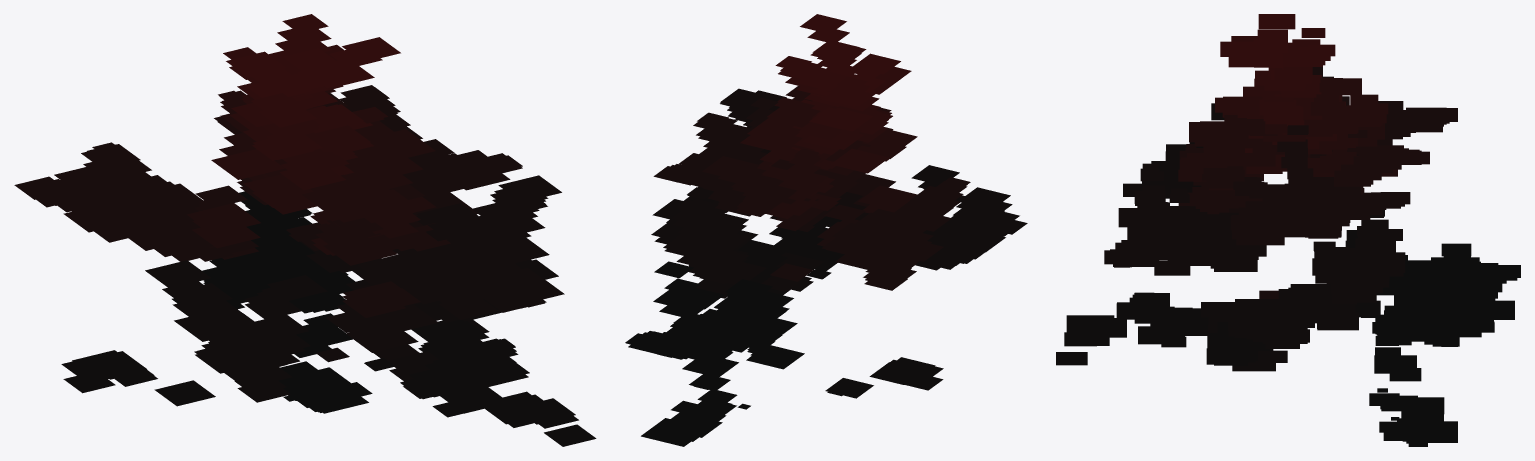
The model's file is baked_canopy02.fbx.
3 renders of one model, left to right at view 1: azimuth 30°, elevation 25°; view 2: azimuth 150°, elevation 25°; view 3: azimuth 270°, elevation 25°, orthographic. The views are drawn at different scales.
Visible parts, largest first — view 1: Baked canopy; view 2: Baked canopy; view 3: Baked canopy.
Boxes of the visible parts, x1,y1,x2,y2 form: Baked canopy: (14, 14, 596, 446); Baked canopy: (625, 14, 1027, 446); Baked canopy: (1056, 14, 1520, 446).
Bounding box in the file's own units: 30678 × 38181 × 33344.
